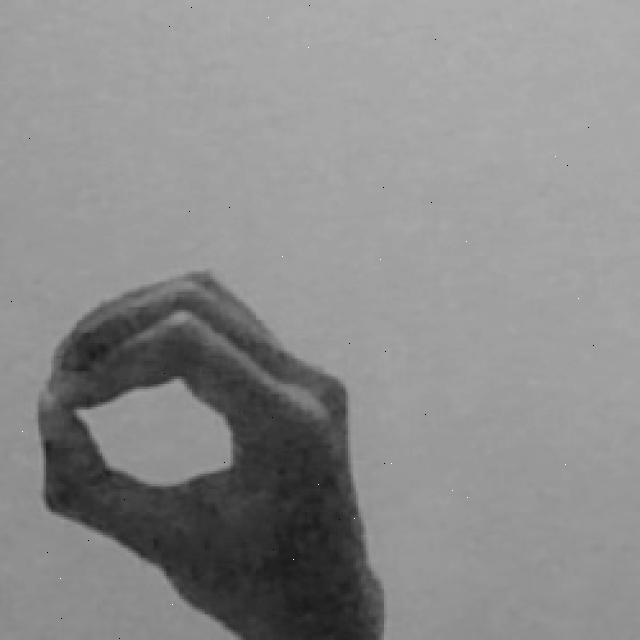O: (31, 257, 396, 640)
